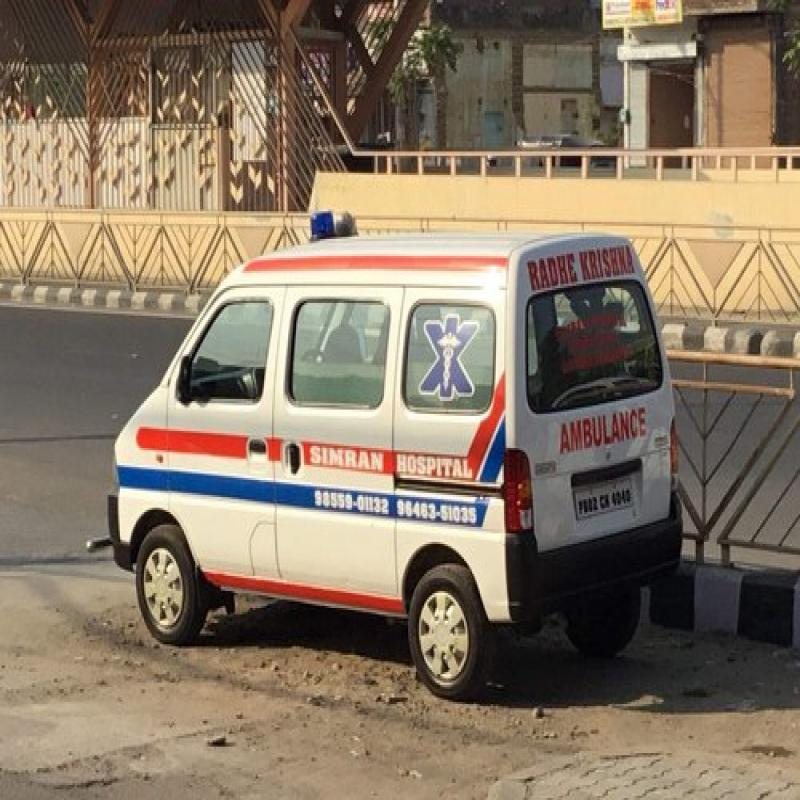ambulance: (91, 242, 643, 627)
